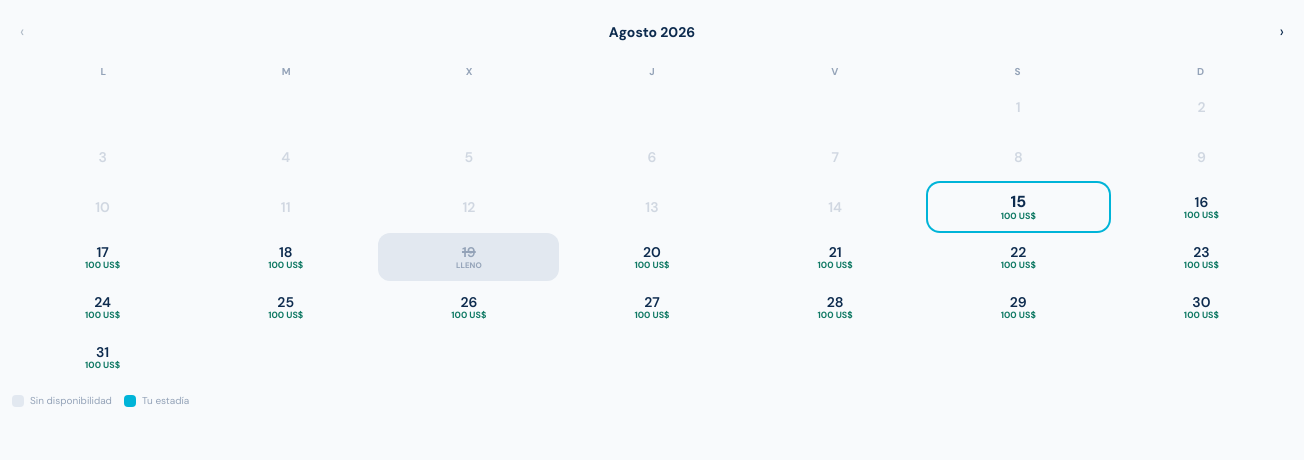
it: CalendarView (widget) › no deja armar un rango por arriba de una noche llena y lo explica
Click the button "18 100 US$" at (286, 257), box x1=195 y1=233 x2=376 y2=281
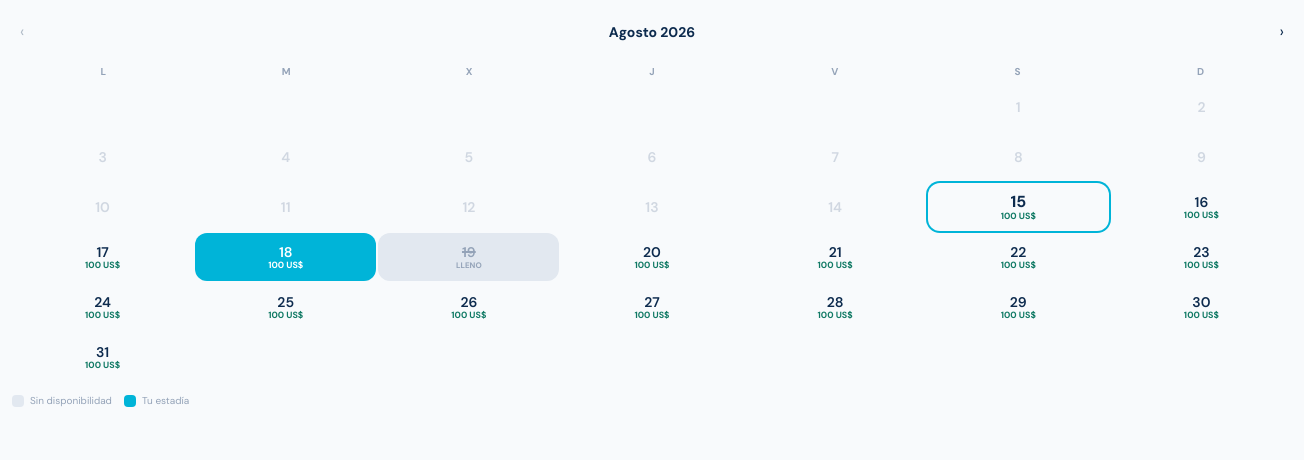
Click the button "21 100 US$" at (835, 257), box x1=745 y1=233 x2=926 y2=281
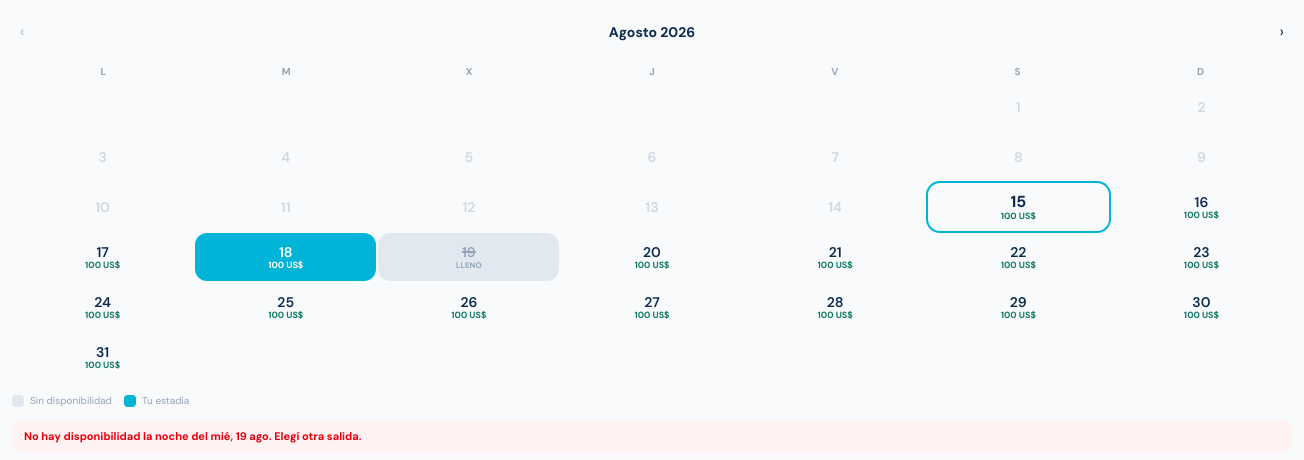
Expected: the text "No hay disponibilidad la noche del" is shown, x1=24 y1=429 x2=362 y2=443
